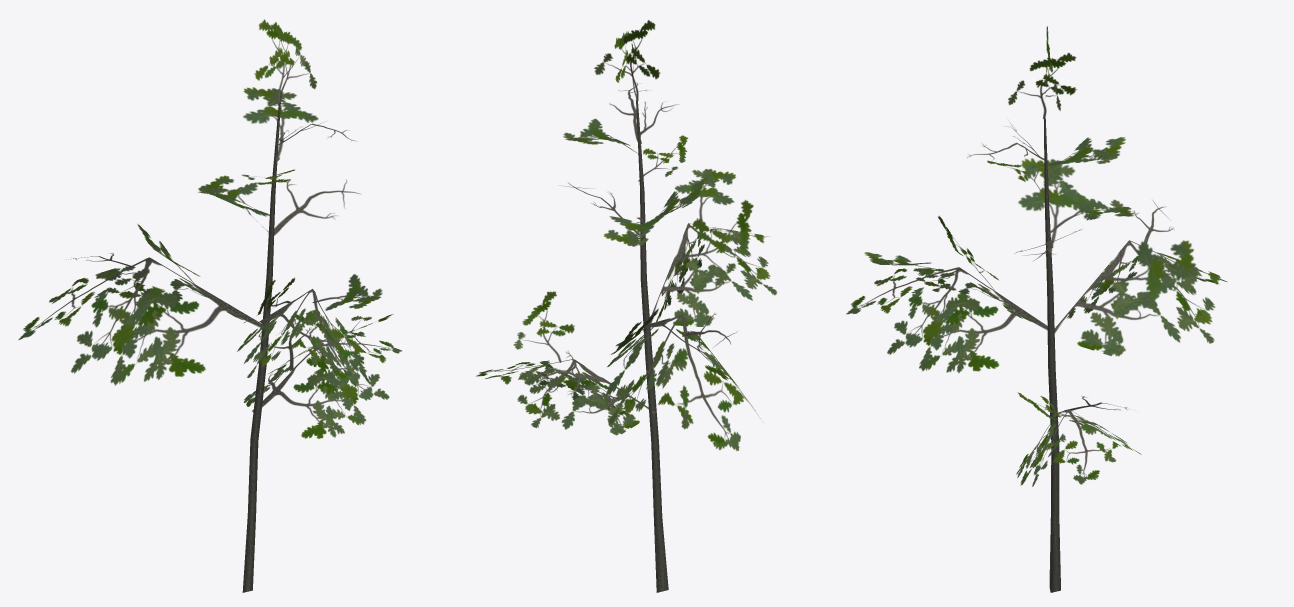
The model's file is oak_sapling_3.glb.
3 views of the same model, side by side, from view 1: azimuth 30°, elevation 25°; view 2: azimuth 150°, elevation 25°; view 3: azimuth 270°, elevation 25° (orthographic).
Visible parts, largest first — view 1: Sapling_oak_tree_003_LOD1_Cluster_Mat_0, Sapling_oak_tree_003_LOD1_Bark_Mat_0; view 2: Sapling_oak_tree_003_LOD1_Cluster_Mat_0, Sapling_oak_tree_003_LOD1_Bark_Mat_0; view 3: Sapling_oak_tree_003_LOD1_Cluster_Mat_0, Sapling_oak_tree_003_LOD1_Bark_Mat_0.
Boxes of the visible parts, left/top/right/bottom form: Sapling_oak_tree_003_LOD1_Cluster_Mat_0: left=18, top=19, right=401, bottom=438; Sapling_oak_tree_003_LOD1_Bark_Mat_0: left=242, top=102, right=280, bottom=592; Sapling_oak_tree_003_LOD1_Cluster_Mat_0: left=476, top=20, right=777, bottom=450; Sapling_oak_tree_003_LOD1_Bark_Mat_0: left=636, top=100, right=668, bottom=592; Sapling_oak_tree_003_LOD1_Cluster_Mat_0: left=846, top=26, right=1227, bottom=486; Sapling_oak_tree_003_LOD1_Bark_Mat_0: left=1044, top=118, right=1060, bottom=592.
Size of the model in its own units: 0.7546 by 1.19 by 0.8169.
2 materials, 2 textured.
